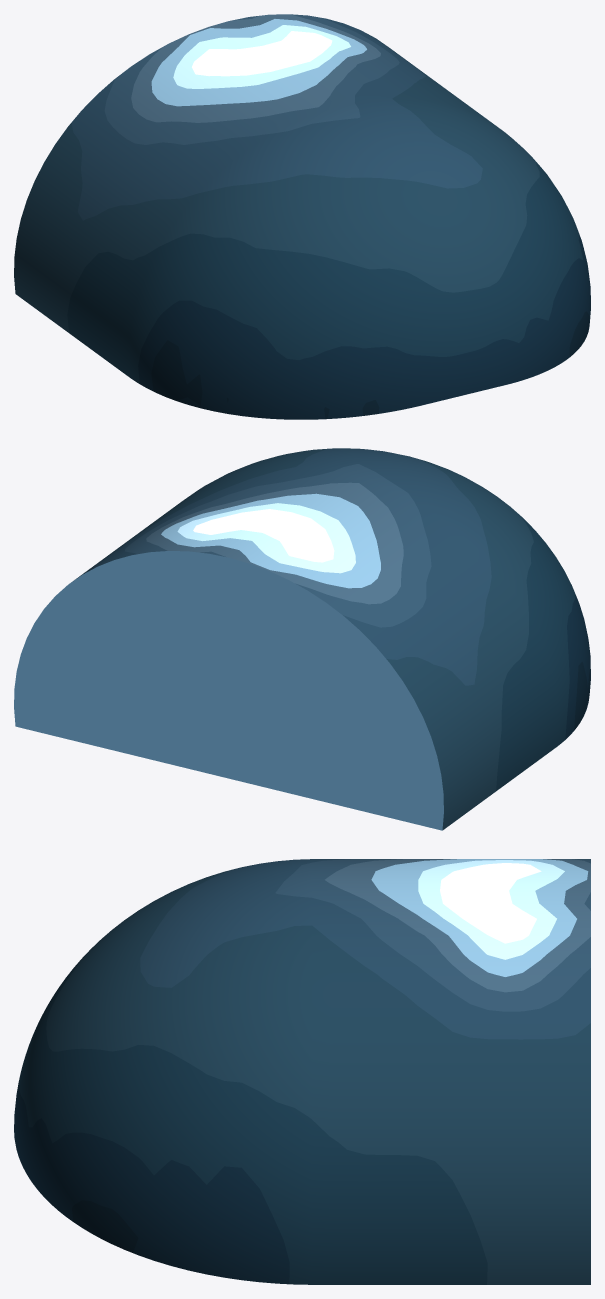
File: coral_egg_b.glb
3 renders of one model, top to bottom at view 1: azimuth 30°, elevation 25°; view 2: azimuth 150°, elevation 25°; view 3: azimuth 270°, elevation 25°, orthographic. The views are drawn at different scales.
Visible parts, largest first — view 1: coral_egg_b; view 2: coral_egg_b; view 3: coral_egg_b.
Part boxes in pixels (left/top/right/bottom): coral_egg_b: left=14, top=14, right=590, bottom=419; coral_egg_b: left=14, top=448, right=590, bottom=830; coral_egg_b: left=14, top=859, right=590, bottom=1284.
Size of the model in its own units: 23.99 by 11.78 by 23.
